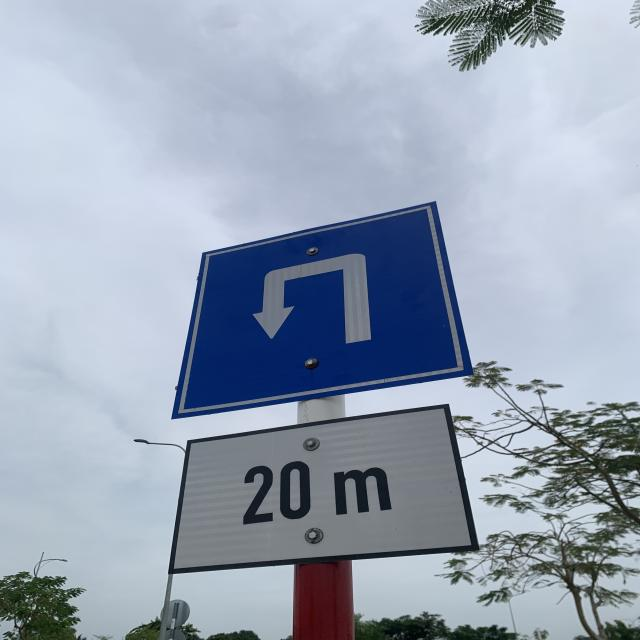Den_Giao_Thong: (172, 197, 473, 413)
